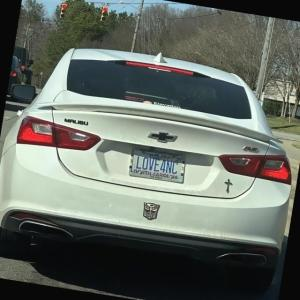Plate: (128, 147, 187, 183)
